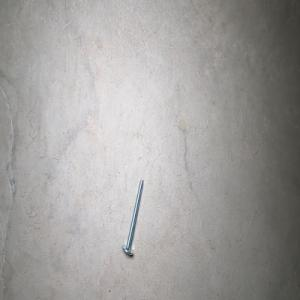Bolt: (121, 177, 144, 256)
